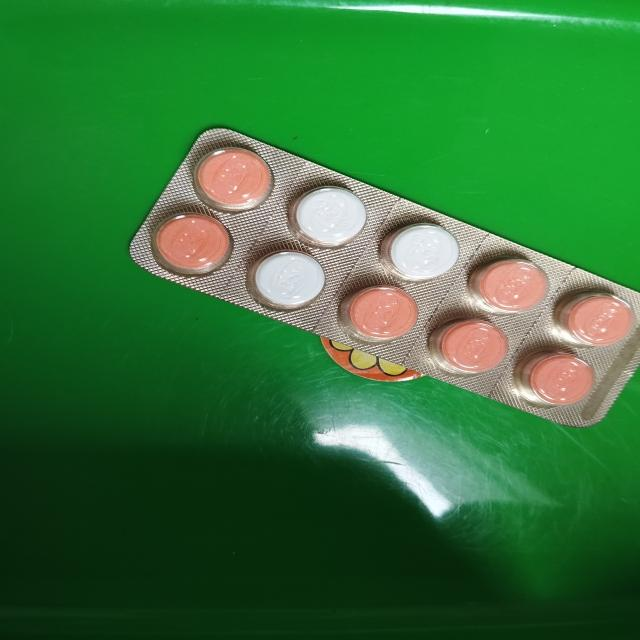B3: (131, 128, 640, 425)
